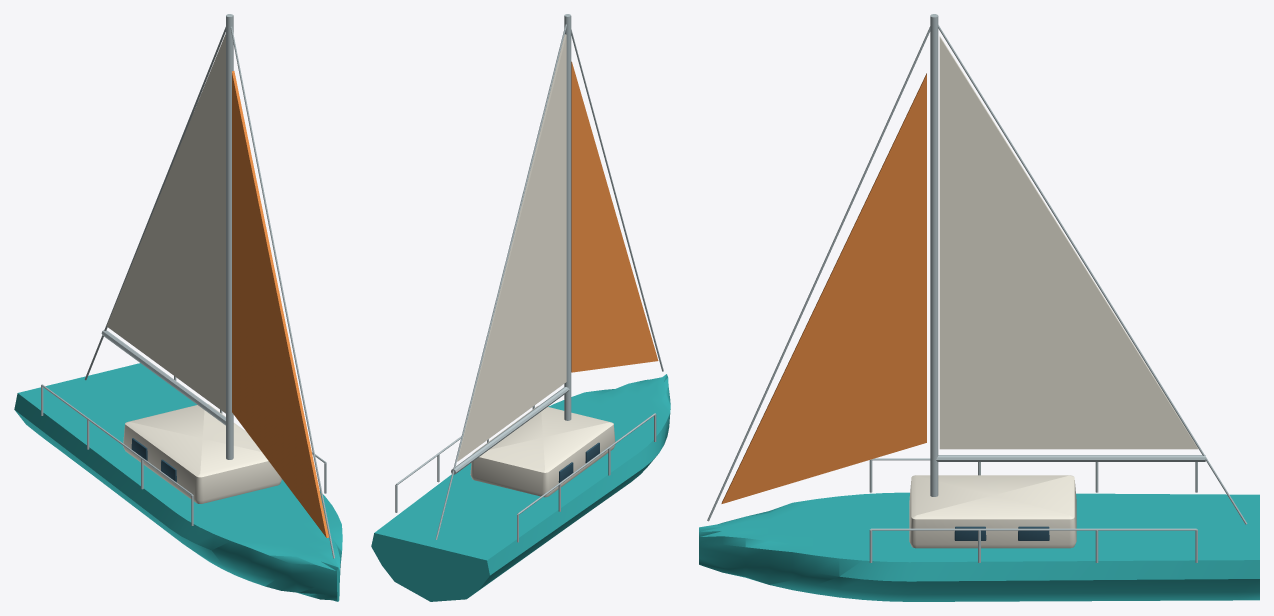
File: air-land-sea-vehicles-coastal-sailboat-50f40832.glb
The picture shows the model from 3 angles, left to right: view 1: azimuth 30°, elevation 25°; view 2: azimuth 150°, elevation 25°; view 3: azimuth 270°, elevation 25°; orthographic projection. The views are drawn at different scales.
Parts seen in each view (by area): view 1: coastal-sailboat; view 2: coastal-sailboat; view 3: coastal-sailboat.
Part boxes in pixels (<box>): coastal-sailboat: <box>14,14,342,601</box>; coastal-sailboat: <box>371,14,670,601</box>; coastal-sailboat: <box>699,14,1259,601</box>.
Size of the model in its own units: 1.96 by 7.04 by 6.2.
